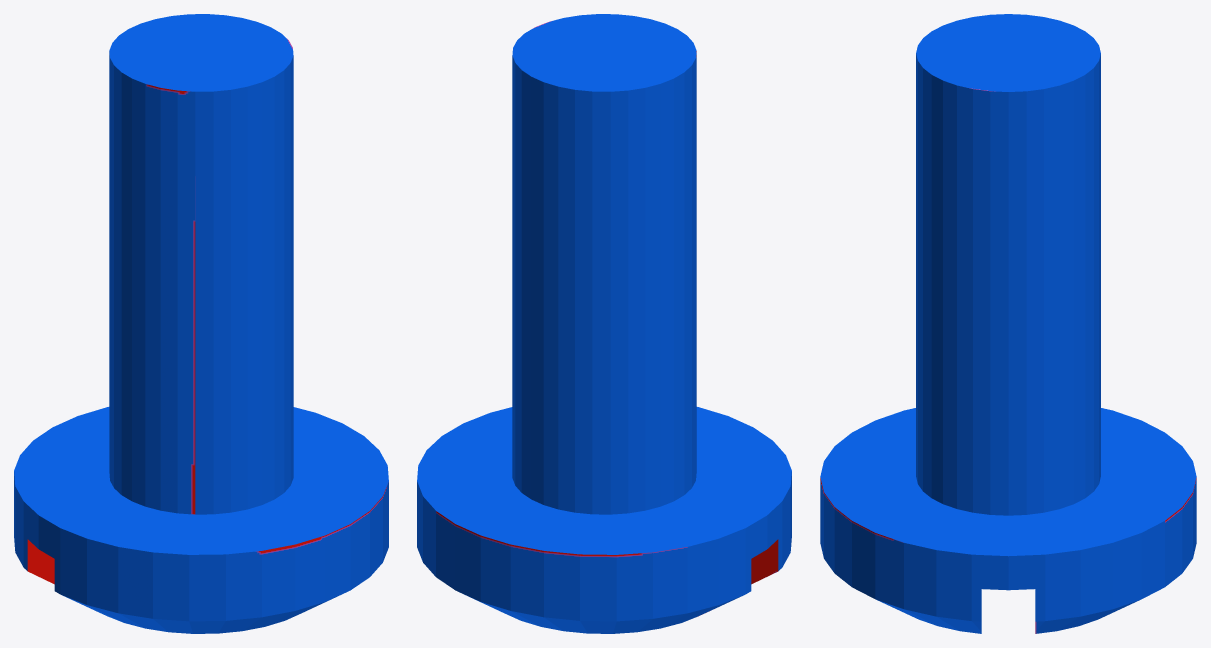
Rendered from screw.fbx.
3 renders of one model, left to right at view 1: azimuth 30°, elevation 25°; view 2: azimuth 150°, elevation 25°; view 3: azimuth 270°, elevation 25°, orthographic.
Visible parts, largest first — view 1: Cylinder; view 2: Cylinder; view 3: Cylinder.
Part boxes in pixels (x1=…): Cylinder: x1=14, y1=14, x2=388, y2=633; Cylinder: x1=417, y1=14, x2=791, y2=633; Cylinder: x1=820, y1=14, x2=1196, y2=633.
Size of the model in its own units: 77.9 by 121 by 77.9.
